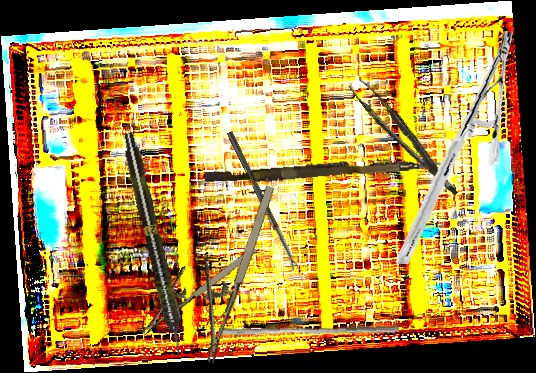Handpiece: (118, 130, 190, 359)
Needle Holder: (379, 30, 532, 265), (171, 174, 280, 364), (124, 227, 260, 336)
Pusher: (204, 151, 442, 189), (218, 318, 400, 342)
Surgical Spoon: (225, 131, 300, 272)
Tissue Forceps: (347, 71, 459, 208)
